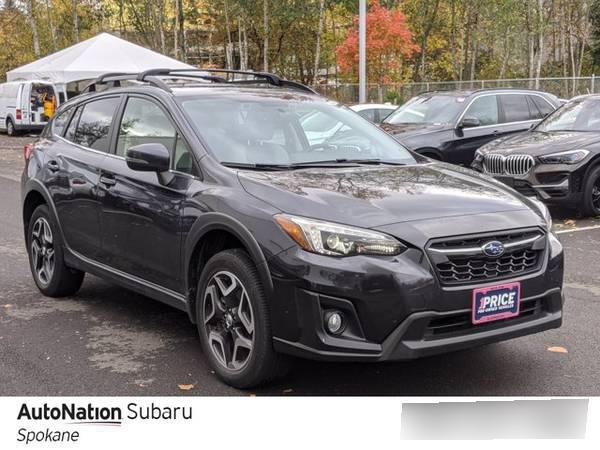Front_Bumper: (258, 231, 563, 358)
Front_Fender: (178, 162, 295, 311)
Front_Right_Door: (94, 152, 187, 307)
Front_Right_Window: (105, 89, 194, 173)
Front_Windshield: (175, 92, 418, 173)
Grille: (425, 224, 549, 288)
Hood: (238, 157, 543, 240)
Rear_Fender: (19, 101, 82, 207)
Rear_Right_Door: (43, 136, 102, 270)
Rear_Right_Window: (57, 95, 123, 155)
Right_Headlight: (273, 214, 409, 259)
Roof: (39, 78, 309, 166)
Wheel: (191, 248, 269, 387), (24, 197, 85, 292)
